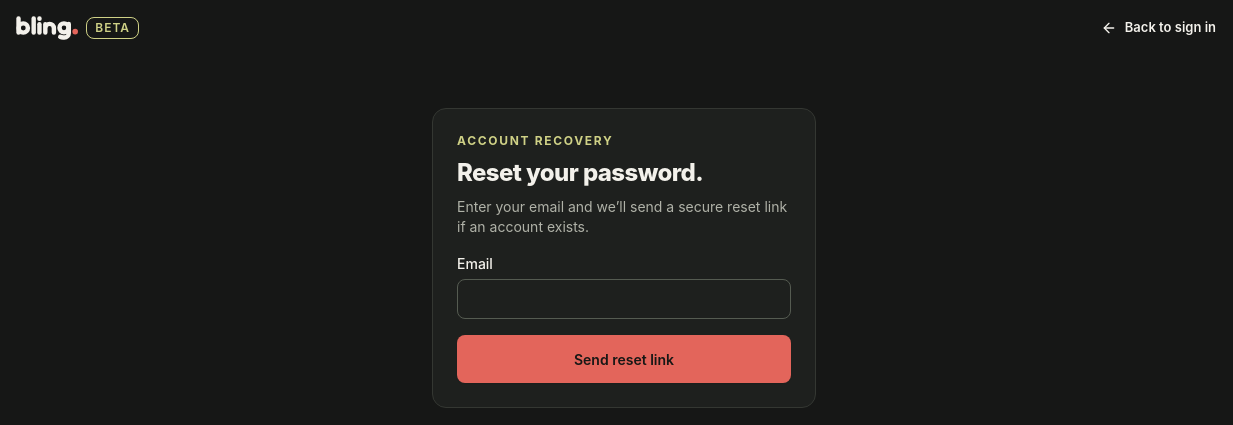
Test: App routes › requests a password reset without revealing account existence
Step 1. Type "alice@example.com" into the field labelled "Email" → point(624, 299), box x1=457 y1=279 x2=791 y2=319
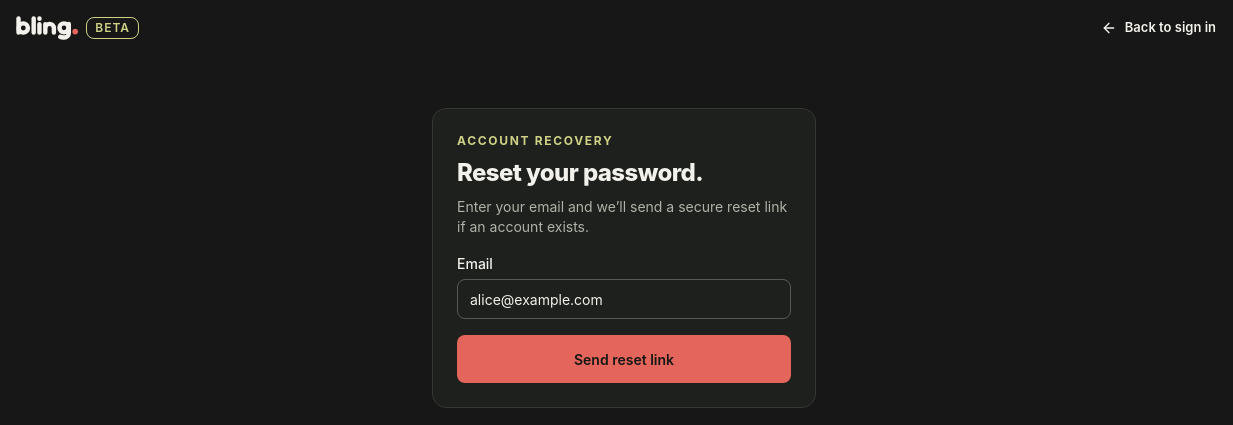
Step 2. Click the button "Send reset link" → point(624, 359), box x1=457 y1=335 x2=791 y2=383
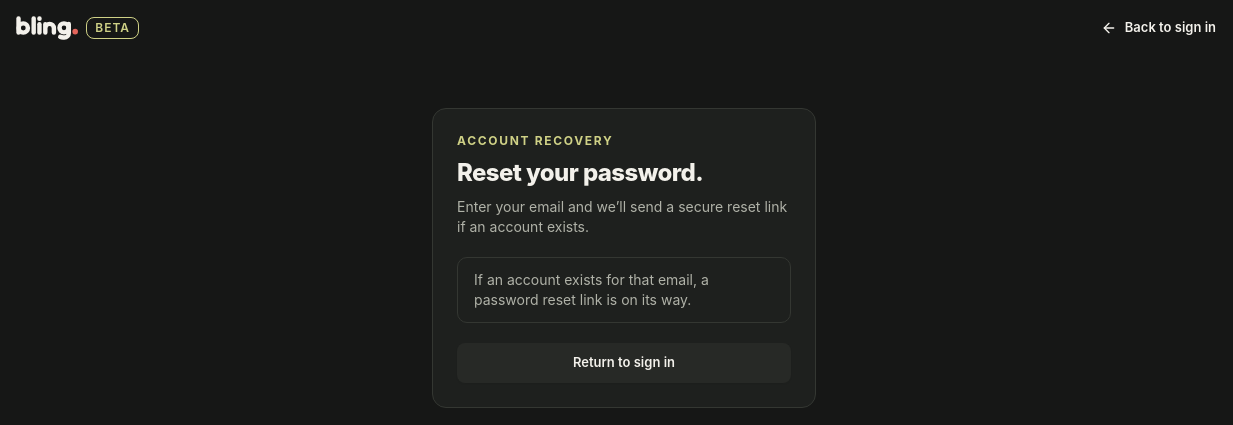
Expected: the text "If an account exists for that email" is shown, x1=474 y1=271 x2=709 y2=308
